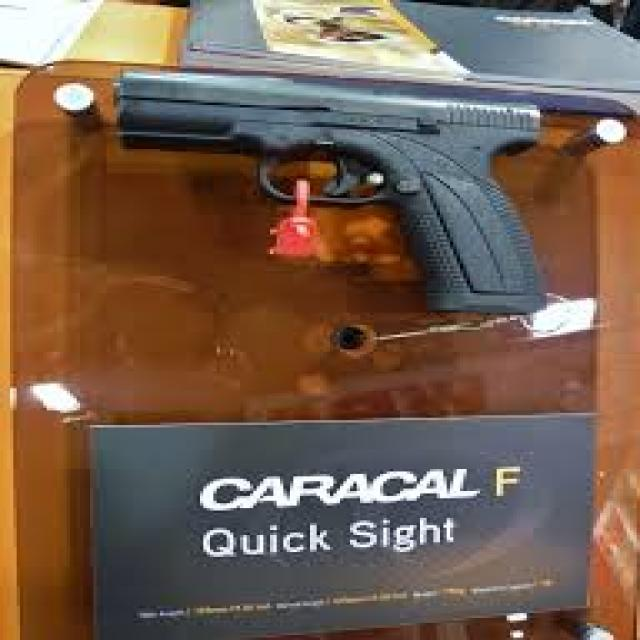Gun: (99, 64, 580, 324)
